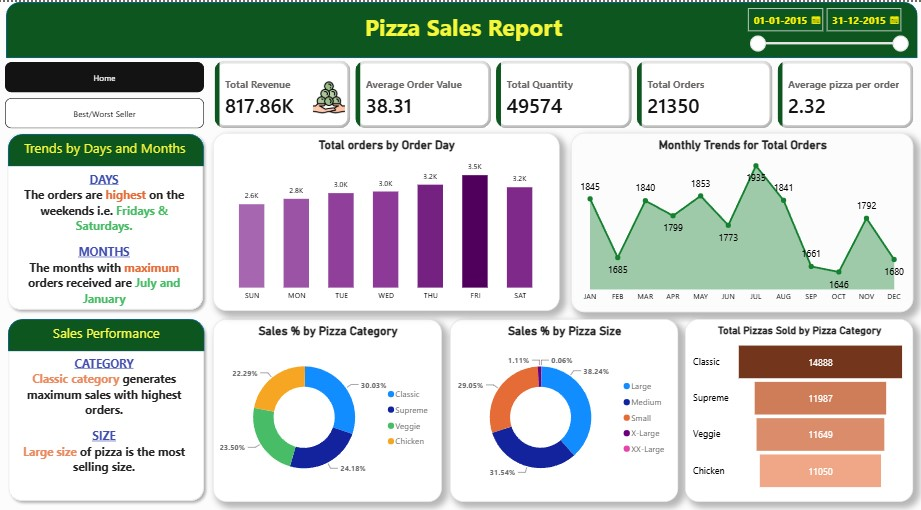

The dashboard page shown, as its layout file describes it:
{"tool":"powerbi","page":{"name":"Home","canvas":[1500,820],"ordinal":0},"visuals":[{"type":"shape","box":[8.2,203.4,332.9,301.8],"z":0},{"type":"shape","box":[13.8,0,1470.5,90.6],"z":1000},{"type":"cardVisual","fields":{"Data":["pizza_sales.Total_revenue","pizza_sales.Average Order Value","pizza_sales.total quantity","pizza_sales.Total orders","pizza_sales.Average pizza per order"]},"box":[334.6,76.8,1165.4,143.7],"z":2000},{"type":"donutChart","title":"Sales % by Pizza Category","fields":{"Category":["pizza_sales.pizza_category"],"Y":["Sum(pizza_sales.quantity)"]},"box":[347.7,511.7,369,295.2],"z":3000},{"type":"textbox","box":[505.9,9.8,492.1,59.1],"z":4000},{"type":"areaChart","title":"Monthly Trends for Total Orders","fields":{"Y":["pizza_sales.Total orders"],"Category":["pizza_sales.Order Month"]},"box":[925.2,210.6,552,289.4],"z":5000},{"type":"donutChart","title":"Sales % by Pizza Size","fields":{"Y":["Sum(pizza_sales.quantity)"],"Category":["pizza_sales.pizza_size"]},"box":[730.3,511.8,368.1,295],"z":6000},{"type":"funnel","title":"Total Pizzas Sold by Pizza Category","fields":{"Category":["pizza_sales.pizza_category"],"Y":["pizza_sales.total quantity"]},"box":[1110.2,511.8,368.1,295],"z":7000},{"type":"columnChart","fields":{"Y":["pizza_sales.Total orders"],"Category":["pizza_sales.Order Day"]},"box":[348.4,210.6,559.1,287.4],"z":8000},{"type":"slicer","fields":{"Values":["pizza_sales.order_date"]},"box":[1198.8,0,279.5,90.6],"z":9000},{"type":"shape","box":[9.8,505.1,332.9,308.3],"z":10000},{"type":"shape","box":[18,213.2,316,52.5],"z":11000},{"type":"shape","box":[18,511.7,317,52.5],"z":12000},{"type":"textbox","box":[32.8,216.5,283.7,49.2],"z":13000},{"type":"textbox","box":[37.7,515,278.8,49.2],"z":14000},{"type":"pageNavigator","box":[13.1,96.8,321.4,49.2],"z":15000},{"type":"pageNavigator","box":[13.1,154.2,321.4,49.2],"z":16000},{"type":"textbox","box":[23,267.3,300.1,241.1],"z":17000},{"type":"textbox","box":[23,564.2,300.1,241.1],"z":18000}]}

Visuals, with their boxes in screenshot pixels (x1, y1, x2, y2), scaled from the page's 1500x820 canvas onto the 921x510 screenshot:
shape: 5:127:209:314
shape: 8:0:911:56
cardVisual - pizza_sales.Total_revenue x pizza_sales.Average Order Value: 205:48:920:137
"Sales % by Pizza Category" donutChart: 213:318:440:502
textbox: 311:6:613:43
"Monthly Trends for Total Orders" areaChart: 568:131:907:311
"Sales % by Pizza Size" donutChart: 448:318:674:502
"Total Pizzas Sold by Pizza Category" funnel: 682:318:908:502
columnChart - pizza_sales.Total orders x pizza_sales.Order Day: 214:131:557:310
slicer - pizza_sales.order_date: 736:0:908:56
shape: 6:314:210:506
shape: 11:133:205:165
shape: 11:318:206:351
textbox: 20:135:194:165
textbox: 23:320:194:351
pageNavigator: 8:60:205:91
pageNavigator: 8:96:205:127
textbox: 14:166:198:316
textbox: 14:351:198:501
